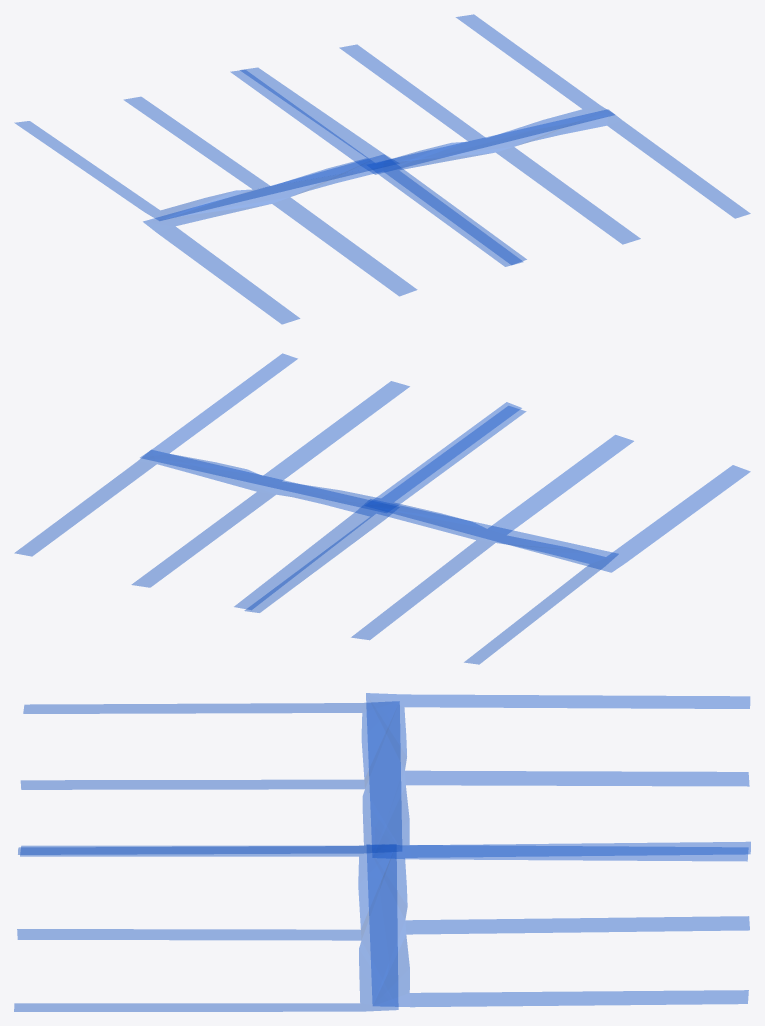
The model's file is Irrigation.dae.
The picture shows the model from 3 angles, top to bottom: view 1: azimuth 30°, elevation 25°; view 2: azimuth 150°, elevation 25°; view 3: azimuth 270°, elevation 25°; orthographic projection. The views are drawn at different scales.
Parts seen in each view (by area): view 1: Irrigation_001, Irrigation, Irrigation_003, Irrigation_002; view 2: Irrigation_001, Irrigation_002, Irrigation, Irrigation_003; view 3: Irrigation_002, Irrigation_003, Irrigation, Irrigation_001.
Part boxes in pixels (bbox=[...]): Irrigation_001: bbox=[143, 154, 526, 324]; Irrigation: bbox=[373, 109, 750, 266]; Irrigation_003: bbox=[231, 14, 614, 174]; Irrigation_002: bbox=[15, 67, 399, 220]; Irrigation_001: bbox=[364, 402, 750, 572]; Irrigation_002: bbox=[234, 499, 618, 664]; Irrigation: bbox=[140, 353, 525, 512]; Irrigation_003: bbox=[15, 450, 391, 612]; Irrigation_002: bbox=[366, 693, 749, 861]; Irrigation_003: bbox=[367, 842, 750, 1006]; Irrigation: bbox=[14, 845, 398, 1011]; Irrigation_001: bbox=[18, 701, 401, 854].
Size of the model in its own units: 2.18 by 2.2 by 0.0513.
